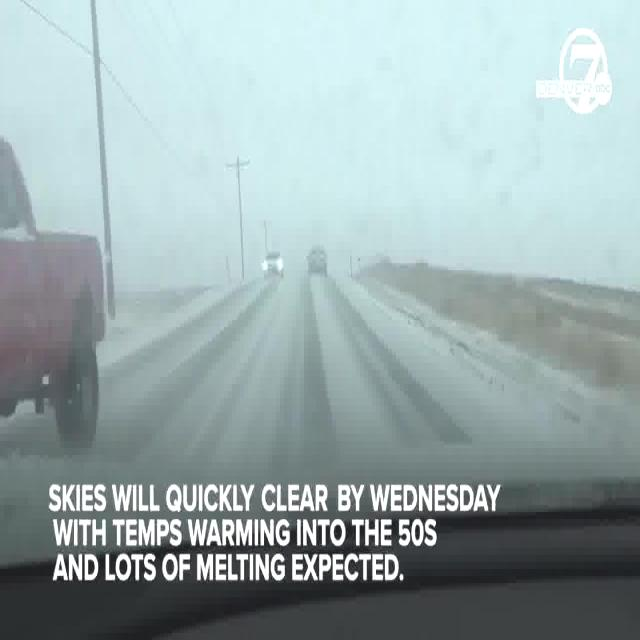Car: (304, 244, 330, 279), (262, 248, 285, 283)
Truck: (0, 132, 110, 447)
